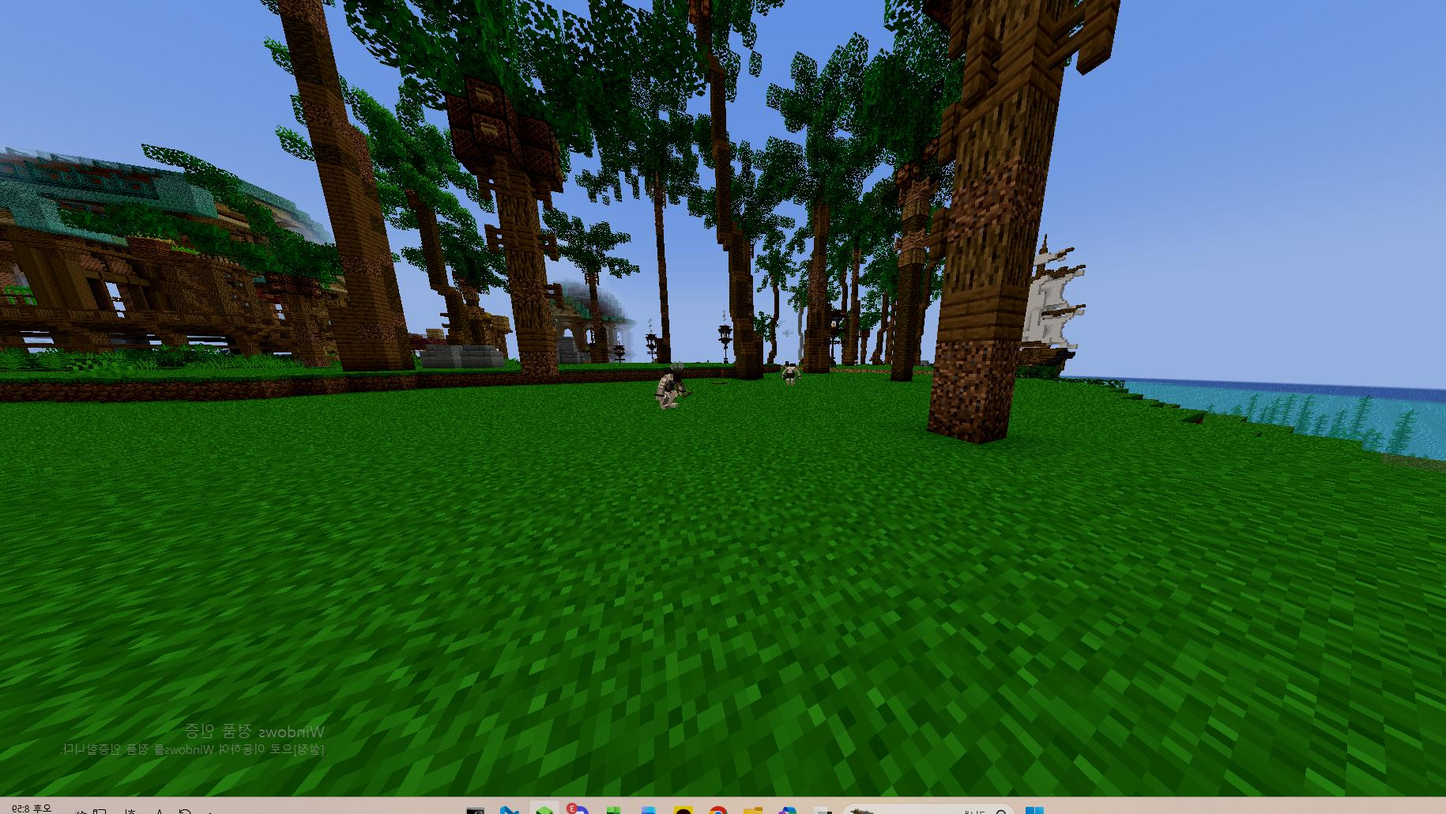bow_indian: (643, 357, 702, 420)
